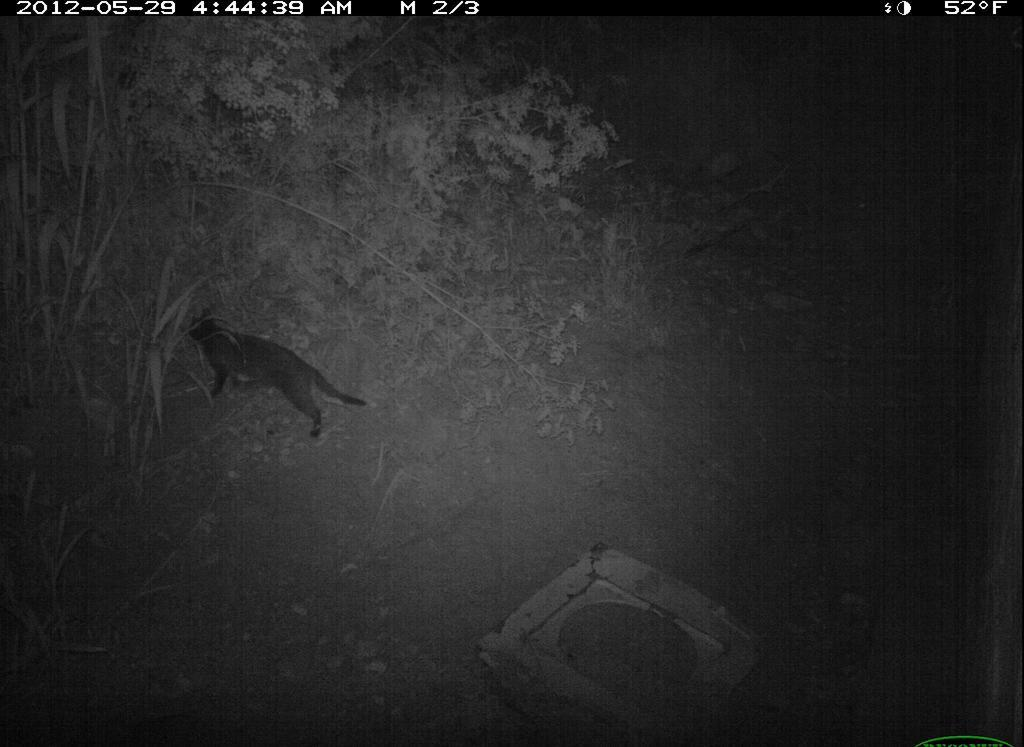cat: (180, 301, 382, 451)
